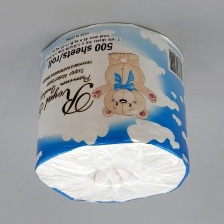tissue: (29, 18, 194, 210)
